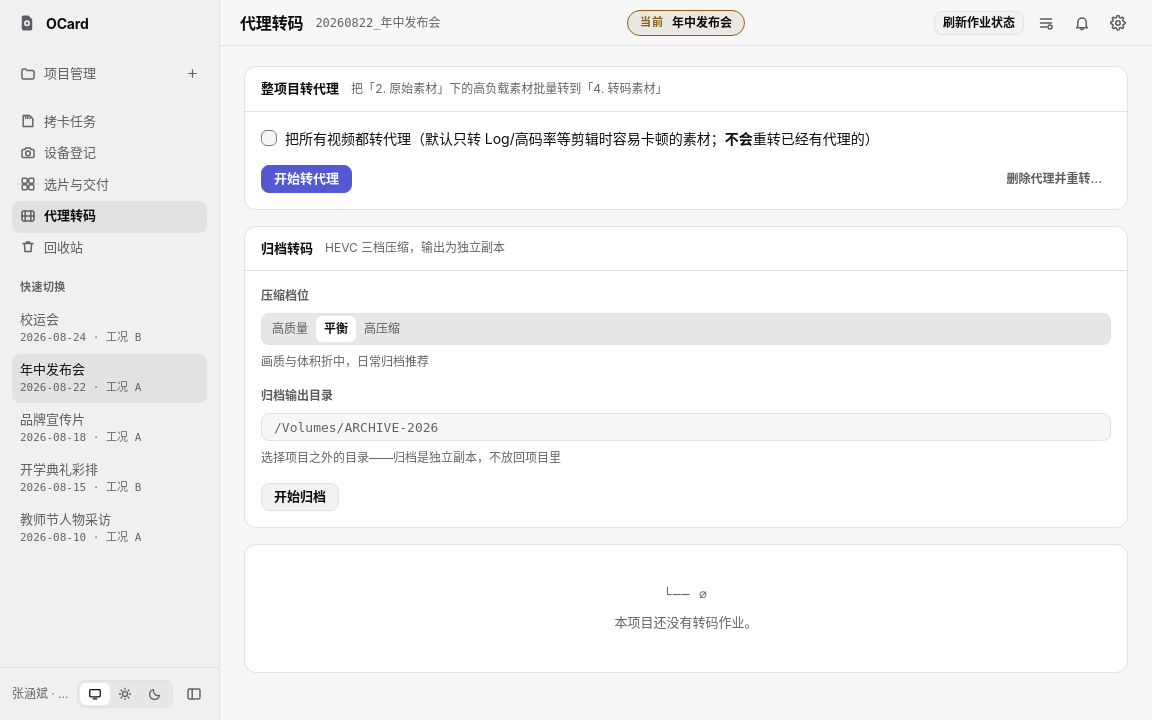
Test: 作业生命周期 › 启动后显示进度、当前文件与取消按钮
This screenshot has width=1152, height=720.
Click the button with test id "transcode-start" at coordinates (306, 178), box [261,164,352,192]
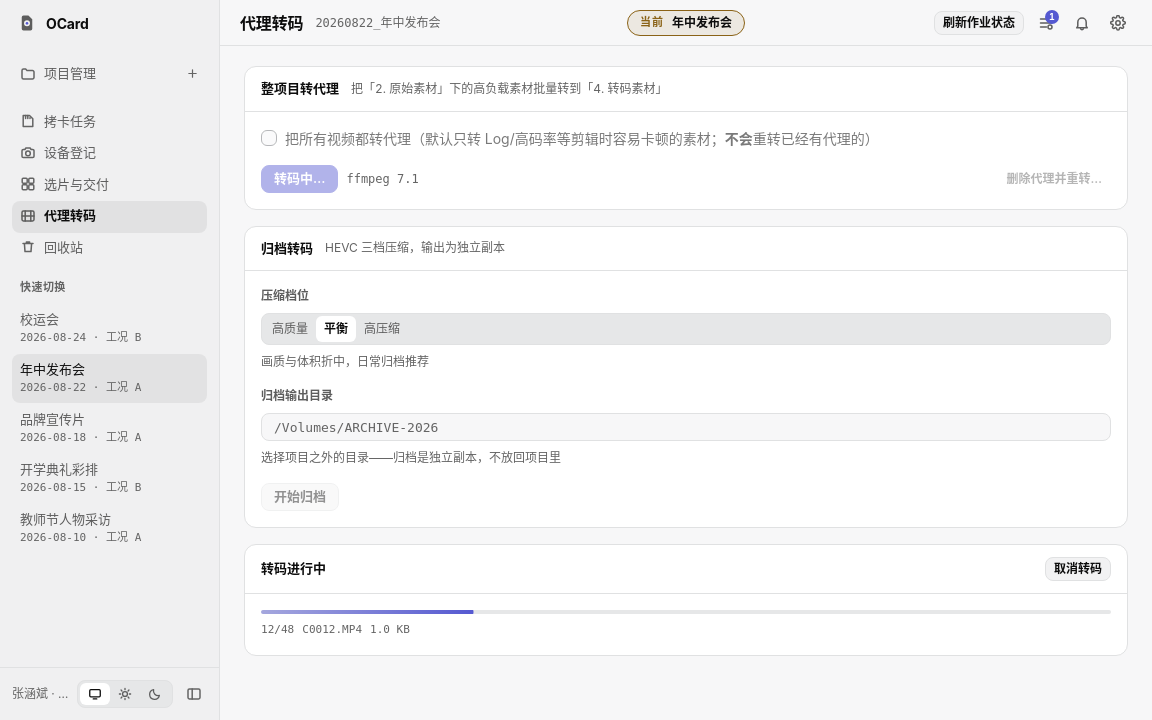
Expected: the text with test id "transcode-progress-count" reads "12/48", [261,622,294,639]
Expected: the text with test id "transcode-progress-file" reads "C0012.MP4", [302,623,362,636]
Expected: the button with test id "transcode-cancel" is shown, [1045,557,1111,581]
